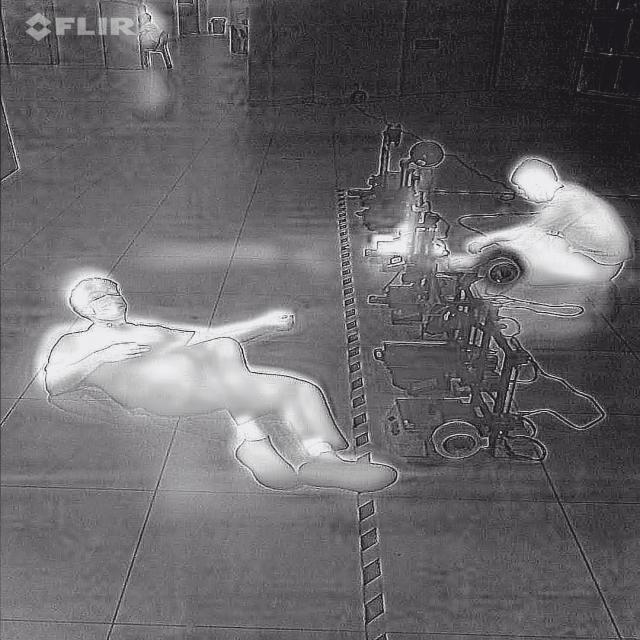Victim: (35, 273, 405, 492), (457, 146, 633, 294)
